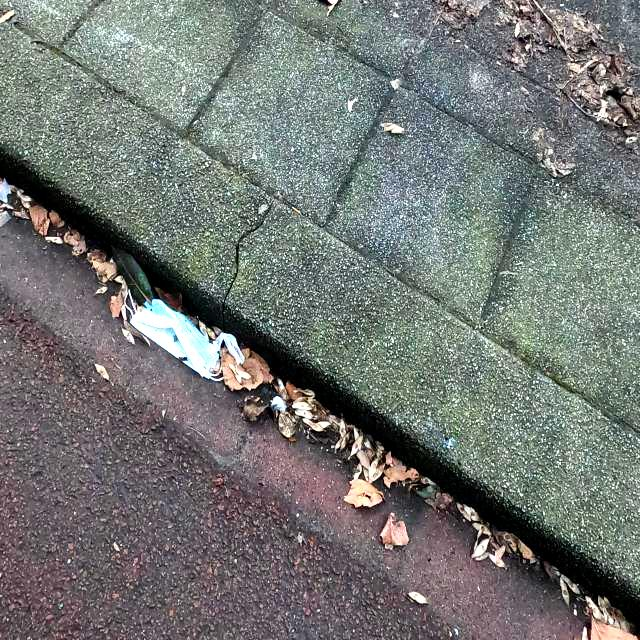Mask: (123, 288, 225, 382)
